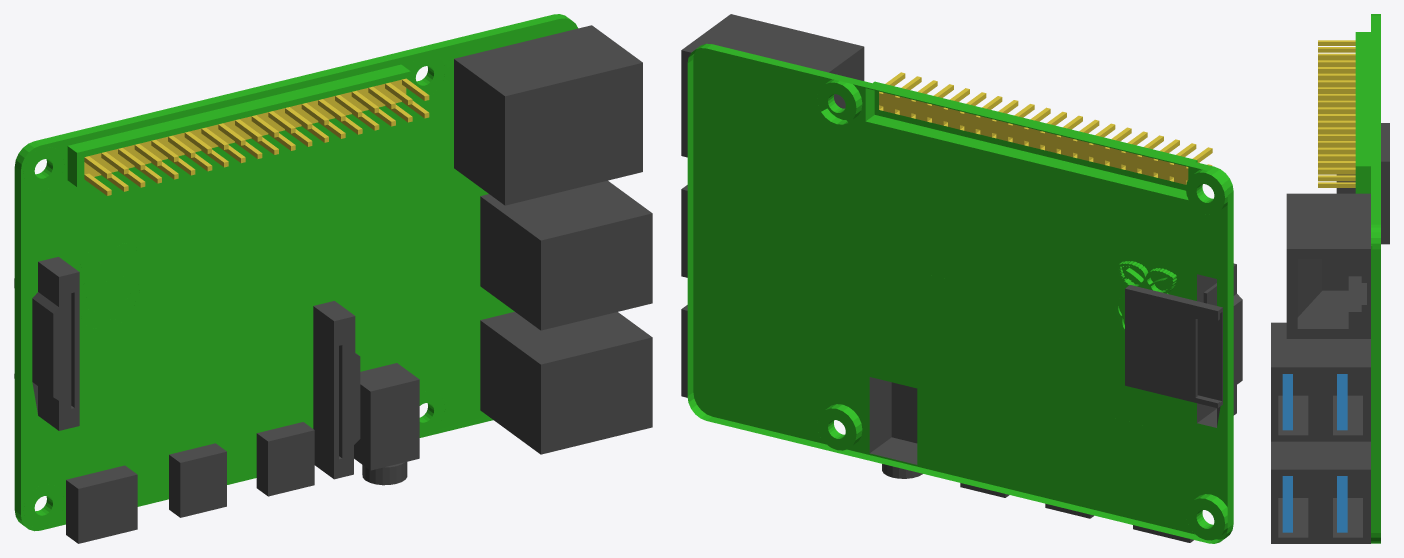
File: rasperry.glb
The picture shows the model from 3 angles, left to right: view 1: azimuth 30°, elevation 25°; view 2: azimuth 150°, elevation 25°; view 3: azimuth 270°, elevation 25°; orthographic projection. The views are drawn at different scales.
Visible parts, largest first — view 1: nodes[19], nodes[15], nodes[0], nodes[1], pins, nodes[2], block2, block, nodes[3], nodes[9], nodes[8], nodes[11] (+3 smaller); view 2: nodes[19], block3, pins, nodes[15], block, block2, nodes[11], nodes[12], nodes[13]; view 3: nodes[15], nodes[0], nodes[1], nodes[19], pins, block3, nodes[5], nodes[6], nodes[7], nodes[4], block2.
Part boxes in pixels (bbox=[...]): nodes[19]: bbox=[14, 14, 578, 531]; nodes[15]: bbox=[454, 25, 642, 205]; nodes[0]: bbox=[480, 180, 652, 330]; nodes[1]: bbox=[480, 312, 652, 454]; pins: bbox=[84, 78, 429, 195]; nodes[2]: bbox=[313, 301, 360, 479]; block2: bbox=[32, 257, 79, 430]; block: bbox=[354, 363, 419, 470]; nodes[3]: bbox=[66, 465, 137, 543]; nodes[9]: bbox=[256, 422, 314, 496]; nodes[8]: bbox=[169, 443, 226, 517]; nodes[11]: bbox=[23, 147, 64, 190]; nodes[19]: bbox=[687, 43, 1233, 543]; block3: bbox=[1125, 285, 1222, 408]; pins: bbox=[879, 72, 1212, 184]; nodes[15]: bbox=[681, 14, 864, 157]; block: bbox=[869, 377, 917, 464]; block2: bbox=[1197, 263, 1242, 427]; nodes[11]: bbox=[1185, 172, 1225, 214]; nodes[12]: bbox=[817, 408, 856, 450]; nodes[13]: bbox=[1185, 498, 1225, 540]; nodes[15]: bbox=[1286, 193, 1370, 338]; nodes[0]: bbox=[1271, 322, 1370, 441]; nodes[1]: bbox=[1271, 441, 1370, 543]; nodes[19]: bbox=[1355, 14, 1380, 543]; pins: bbox=[1318, 40, 1355, 187]; block3: bbox=[1381, 123, 1389, 244]; nodes[5]: bbox=[1337, 476, 1347, 532]; nodes[6]: bbox=[1282, 476, 1292, 532]; nodes[7]: bbox=[1337, 374, 1347, 430]; nodes[4]: bbox=[1282, 374, 1292, 430]; block2: bbox=[1336, 174, 1355, 193].
Bounding box in the file's own units: 86.9 × 58.59 × 19.
